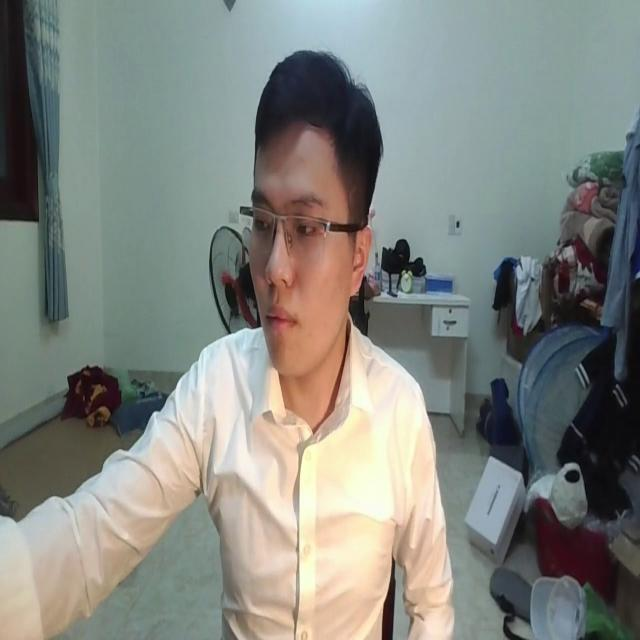student: (2, 43, 457, 640)
